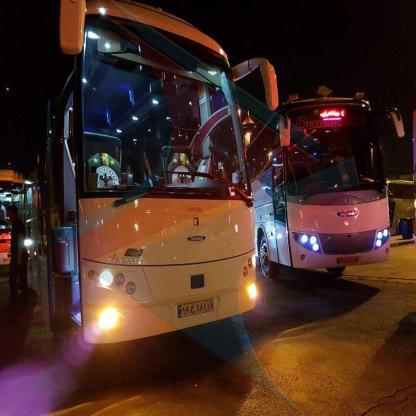Bus: (34, 0, 264, 358), (255, 95, 401, 281)
